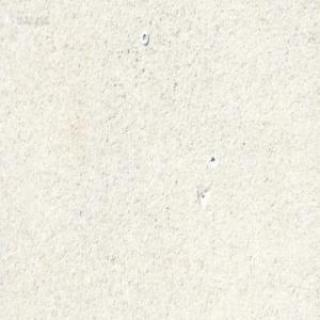Washertrack_idkeyframe: (140, 30, 148, 44)
